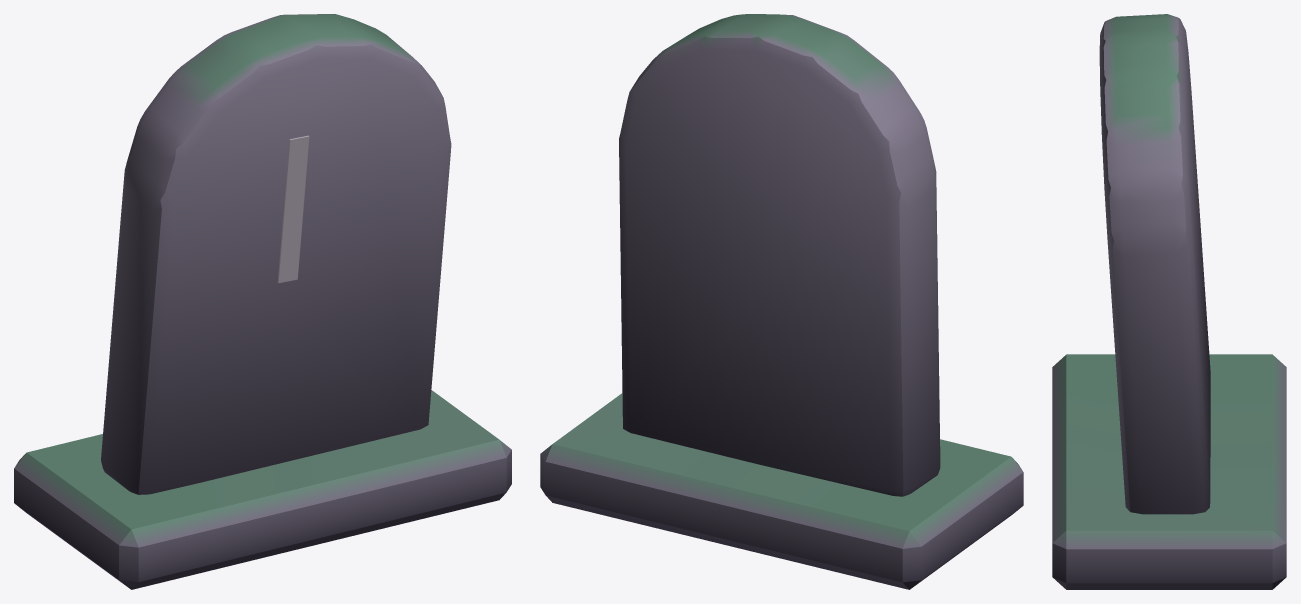
Rendered from grave.glb.
3 renders of one model, left to right at view 1: azimuth 30°, elevation 25°; view 2: azimuth 150°, elevation 25°; view 3: azimuth 270°, elevation 25°, orthographic. The views are drawn at different scales.
Parts seen in each view (by area): view 1: grave_body; view 2: grave_body; view 3: grave_body.
Boxes of the visible parts, x1,y1,x2,y2 form: grave_body: (14, 14, 511, 589); grave_body: (540, 14, 1023, 589); grave_body: (1052, 14, 1286, 589).
Size of the model in its own units: 0.95 by 1.12 by 0.5.
